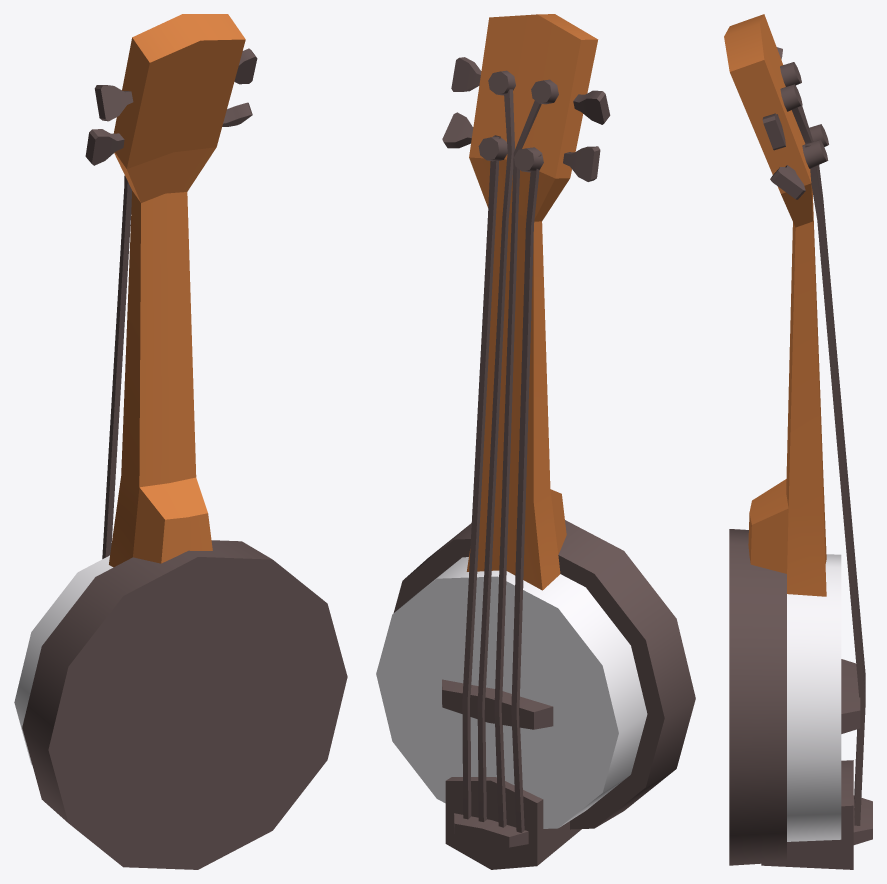
Rendered from Banjo.obj.
The picture shows the model from 3 angles, left to right: view 1: azimuth 30°, elevation 25°; view 2: azimuth 150°, elevation 25°; view 3: azimuth 270°, elevation 25°; orthographic projection. The views are drawn at different scales.
Visible parts, largest first — view 1: Handle, Neck, Drum; view 2: Handle, Drum, Neck; view 3: Handle, Neck, Drum.
Part boxes in pixels (<box>): Handle: <box>22,48,347,869</box>; Neck: <box>109,14,245,567</box>; Drum: <box>14,555,113,765</box>; Handle: <box>393,57,695,869</box>; Drum: <box>376,557,647,828</box>; Neck: <box>466,14,598,590</box>; Handle: <box>729,47,872,869</box>; Neck: <box>724,14,826,596</box>; Drum: <box>787,554,841,841</box>.
Size of the model in its own units: 1.04 by 2.86 by 0.4599.
